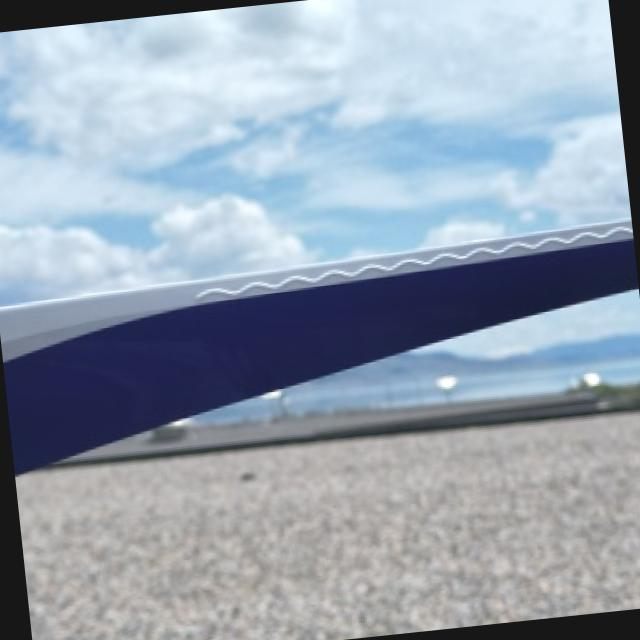healthy: (0, 217, 638, 472)
